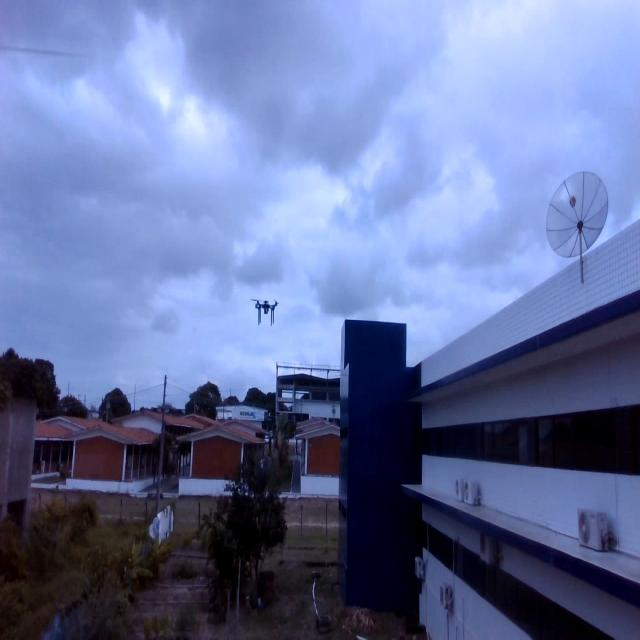-uav-: (248, 288, 282, 336)
